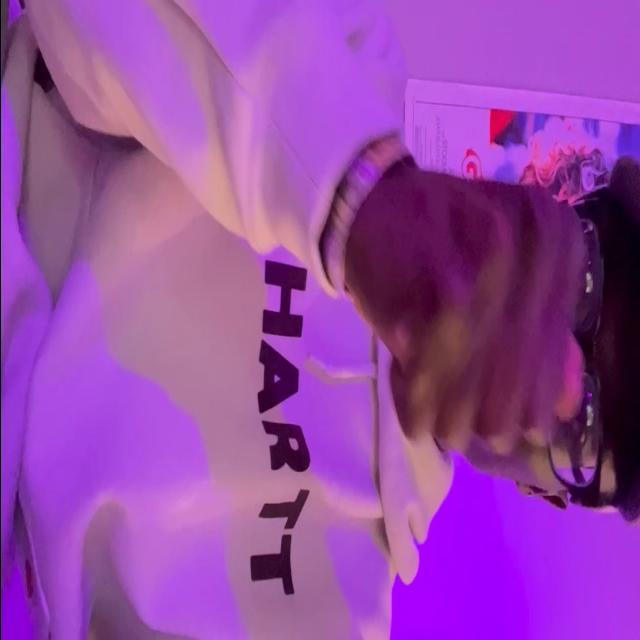Rock: (359, 171, 587, 454)
